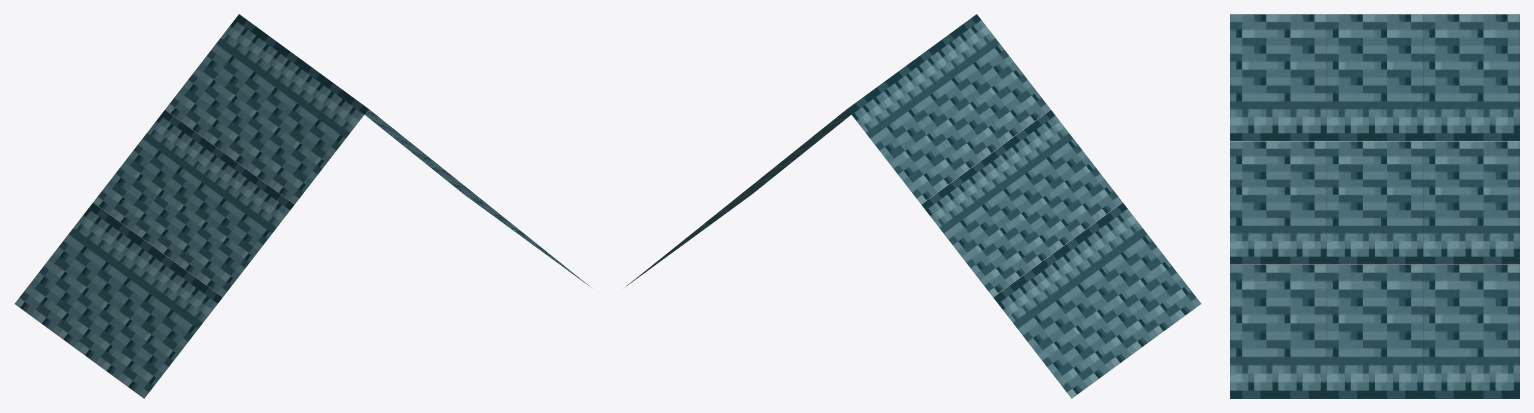
Rendered from Roof_6x3_A.fbx.
The picture shows the model from 3 angles, left to right: view 1: azimuth 30°, elevation 25°; view 2: azimuth 150°, elevation 25°; view 3: azimuth 270°, elevation 25°; orthographic projection. The views are drawn at different scales.
Parts seen in each view (by area): view 1: Roof_6x3_A; view 2: Roof_6x3_A; view 3: Roof_6x3_A.
Boxes of the visible parts, bbox=[...] form: Roof_6x3_A: bbox=[14, 14, 589, 398]; Roof_6x3_A: bbox=[626, 14, 1201, 398]; Roof_6x3_A: bbox=[1230, 14, 1519, 398].
Bounding box in the file's own units: 300 × 600 × 300.
